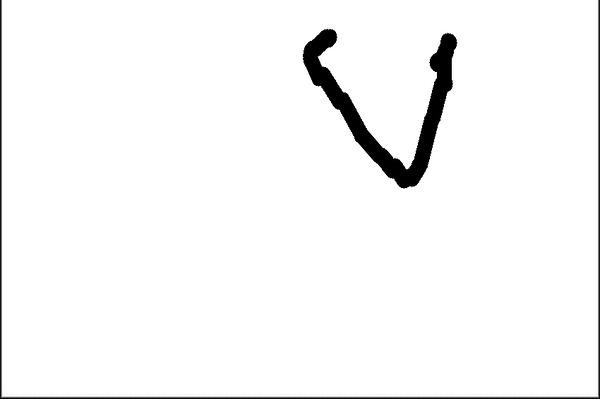V: (298, 17, 461, 188)
